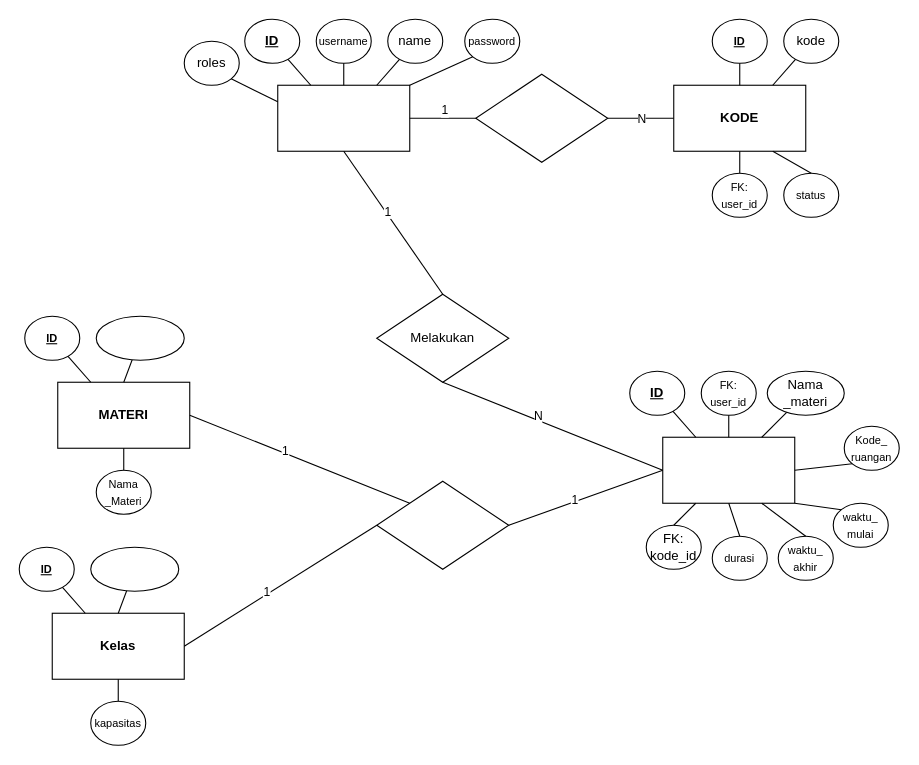
Image size: 919x765. Some labels were removed from this diagram. The shapes that lost their labels are listed below. From the top down, each one's box as (x1, y1, x2, y2) in pixels, then its label:
(277, 84, 410, 151): USERS
(475, 73, 608, 162): Membuat
(95, 315, 184, 360): kode _materi
(662, 436, 795, 503): ABSEN
(376, 480, 509, 569): Mengambil
(90, 546, 179, 591): kode _ruangan
